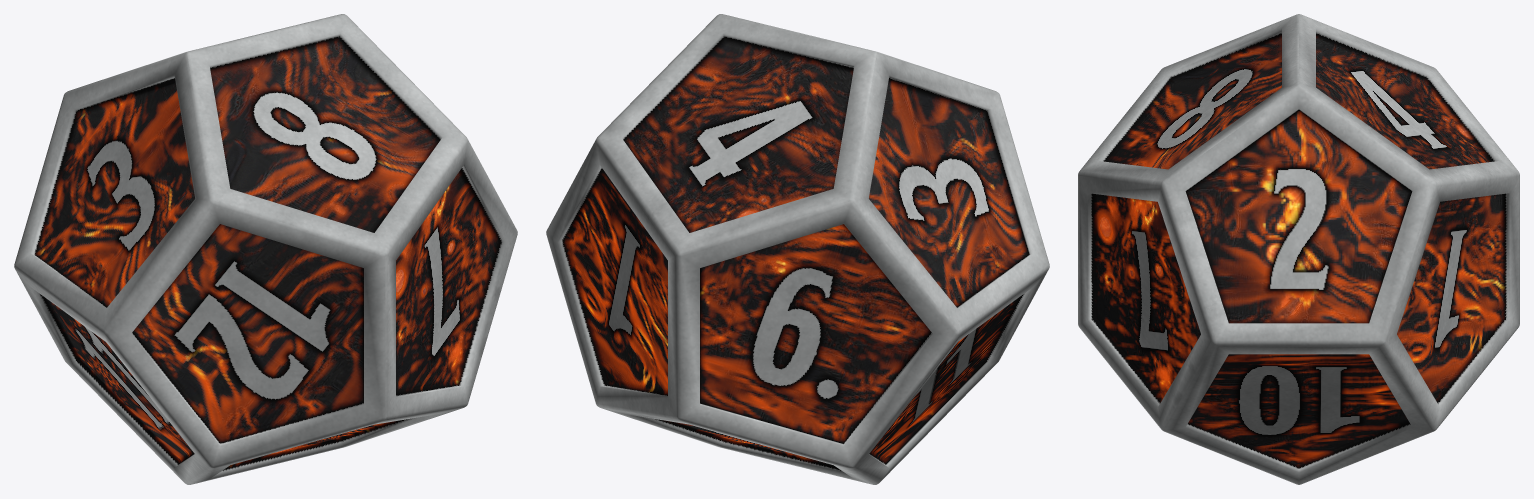
3 views of the same model, side by side, from view 1: azimuth 30°, elevation 25°; view 2: azimuth 150°, elevation 25°; view 3: azimuth 270°, elevation 25° (orthographic). The views are drawn at different scales.
Visible parts, largest first — view 1: dice_12; view 2: dice_12; view 3: dice_12.
Part boxes in pixels (<box>): dice_12: <box>14,14,517,484</box>; dice_12: <box>546,14,1049,484</box>; dice_12: <box>1078,14,1519,484</box>.
Size of the model in its own units: 1.67 by 1.67 by 1.67.
1 material, 1 textured.
